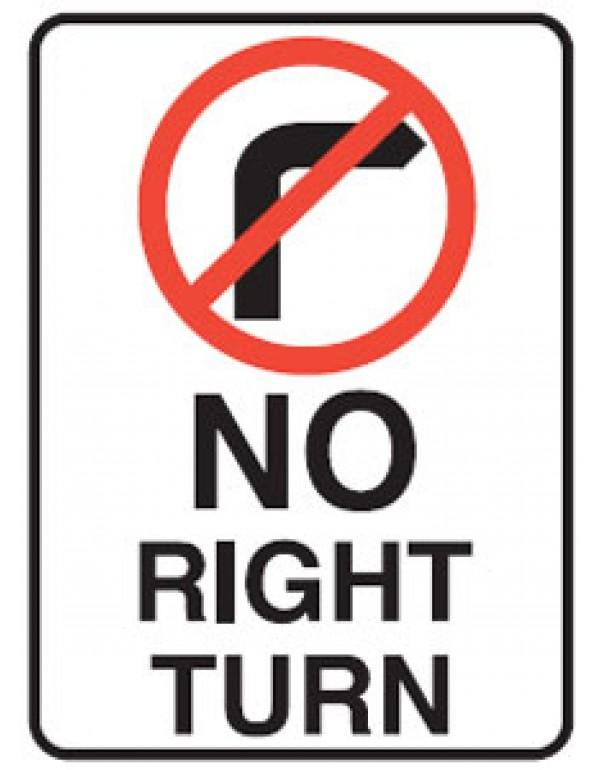no_right_turn: (136, 38, 477, 373)
